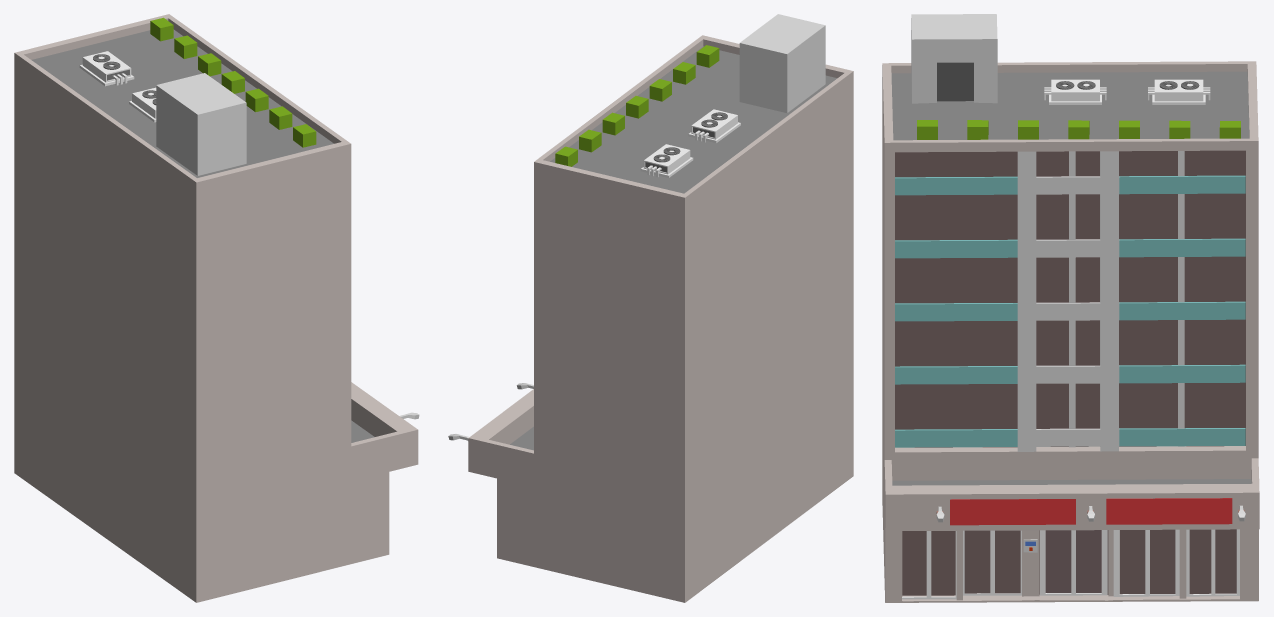
File: Building_16_tran.glb
The picture shows the model from 3 angles, left to right: view 1: azimuth 30°, elevation 25°; view 2: azimuth 150°, elevation 25°; view 3: azimuth 270°, elevation 25°; orthographic projection. The views are drawn at different scales.
Visible parts, largest first — view 1: phone shop.003, Cube.13738, Cube.13741, Cube.13742, Cube.13743; view 2: phone shop.003, Cube.13738, Cube.13741, Cube.13742, Cube.13743; view 3: phone shop.003, Cube.13737, Cube.13738, Cube.13736, Cube.13735, Building_16, Cube.13734, Cube.13733, Cube.13741, Cube.13740, Cube.13739, Cube.13742 (+1 smaller).
Part boxes in pixels (x1=…): phone shop.003: x1=14, y1=14, x2=418, y2=602; Cube.13738: x1=156, y1=73, x2=246, y2=175; Cube.13741: x1=150, y1=17, x2=316, y2=147; Cube.13742: x1=79, y1=51, x2=134, y2=86; Cube.13743: x1=129, y1=87, x2=156, y2=122; phone shop.003: x1=468, y1=35, x2=853, y2=602; Cube.13738: x1=739, y1=14, x2=825, y2=112; Cube.13741: x1=555, y1=45, x2=719, y2=166; Cube.13742: x1=640, y1=144, x2=693, y2=177; Cube.13743: x1=688, y1=109, x2=740, y2=143; phone shop.003: x1=882, y1=61, x2=1259, y2=602; Cube.13737: x1=895, y1=175, x2=1245, y2=447; Cube.13738: x1=911, y1=14, x2=997, y2=103; Cube.13736: x1=1017, y1=151, x2=1036, y2=451; Cube.13735: x1=1100, y1=151, x2=1118, y2=451; Building_16: x1=902, y1=529, x2=1239, y2=599; Cube.13734: x1=1106, y1=498, x2=1232, y2=524; Cube.13733: x1=950, y1=499, x2=1075, y2=525; Cube.13741: x1=917, y1=120, x2=1240, y2=139; Cube.13740: x1=1069, y1=151, x2=1075, y2=447; Cube.13739: x1=1178, y1=151, x2=1184, y2=446; Cube.13742: x1=1148, y1=79, x2=1210, y2=104.
Bounding box in the file's own units: 0.3288 × 0.5881 × 0.4043.
